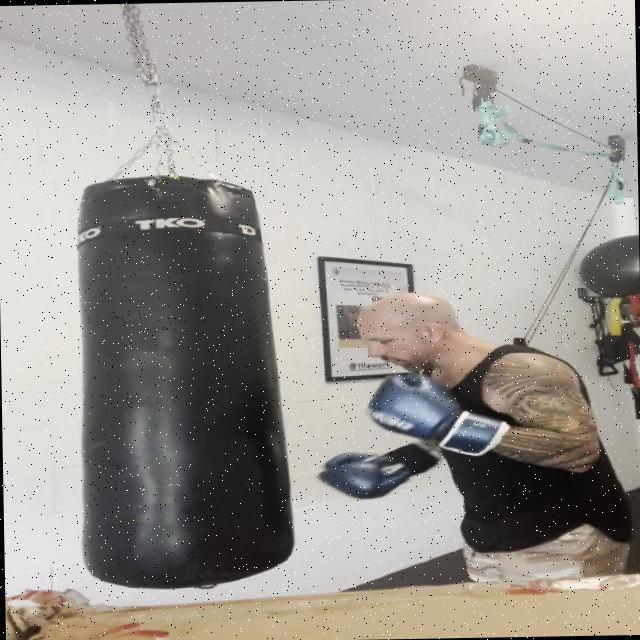punch: (296, 294, 608, 506)
